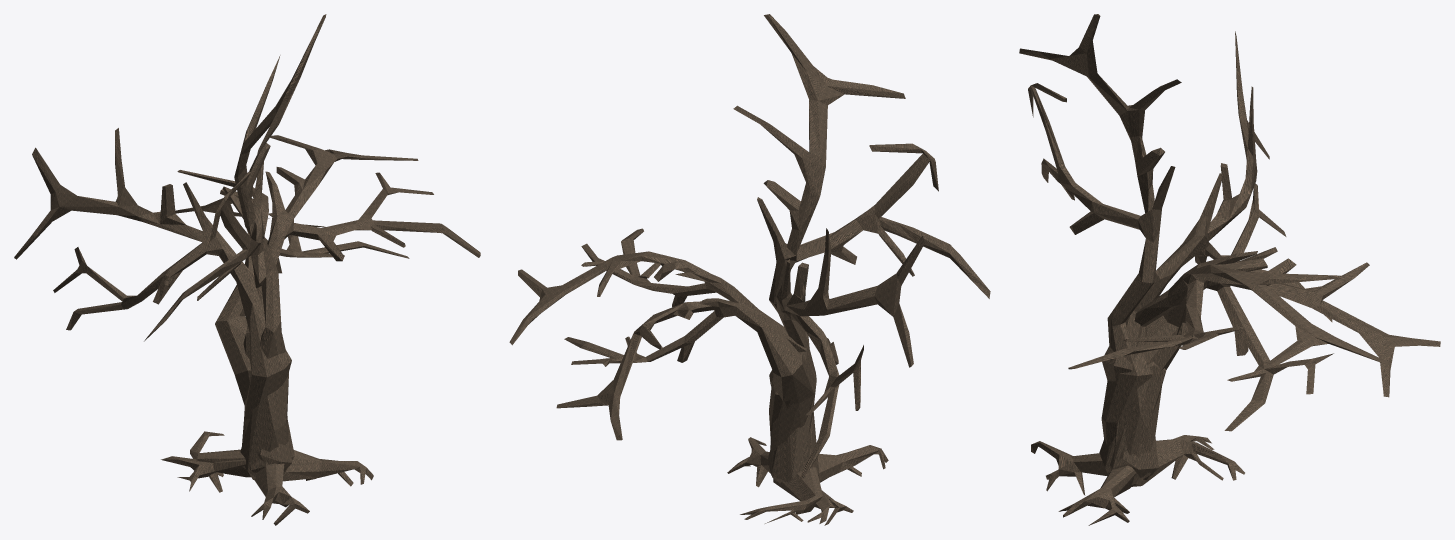
Rendered from dead-tree2.fbx.
3 views of the same model, side by side, from view 1: azimuth 30°, elevation 25°; view 2: azimuth 150°, elevation 25°; view 3: azimuth 270°, elevation 25° (orthographic). The views are drawn at different scales.
Visible parts, largest first — view 1: tree1_low.001; view 2: tree1_low.001; view 3: tree1_low.001.
Boxes of the visible parts, x1,y1,x2,y2 form: tree1_low.001: [14, 14, 480, 525]; tree1_low.001: [509, 14, 990, 525]; tree1_low.001: [1019, 14, 1440, 525].
Bounding box in the file's own units: 4531 × 5092 × 3856.
1 material, 1 textured.
